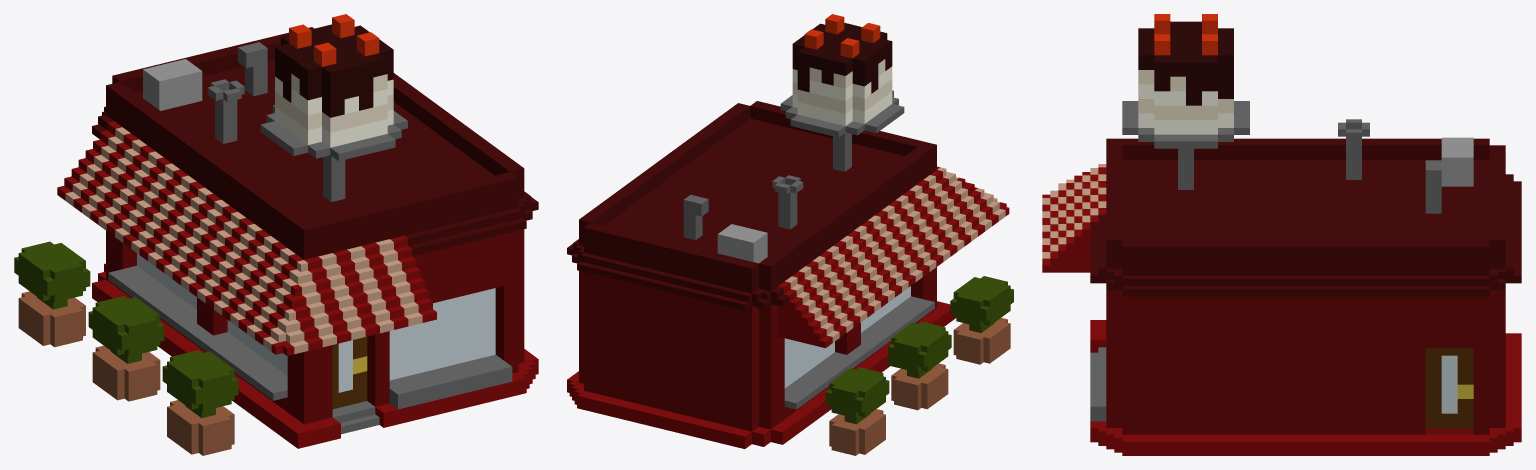
File: cake1.obj
The picture shows the model from 3 angles, left to right: view 1: azimuth 30°, elevation 25°; view 2: azimuth 150°, elevation 25°; view 3: azimuth 270°, elevation 25°; orthographic projection. The views are drawn at different scales.
Visible parts, largest first — view 1: cake1; view 2: cake1; view 3: cake1.
Part boxes in pixels (left/top/right/bottom): cake1: left=14, top=14, right=538, bottom=455; cake1: left=567, top=14, right=1013, bottom=455; cake1: left=1042, top=14, right=1521, bottom=455.
Size of the model in its own units: 48 by 48 by 60.
1 material, 1 textured.
